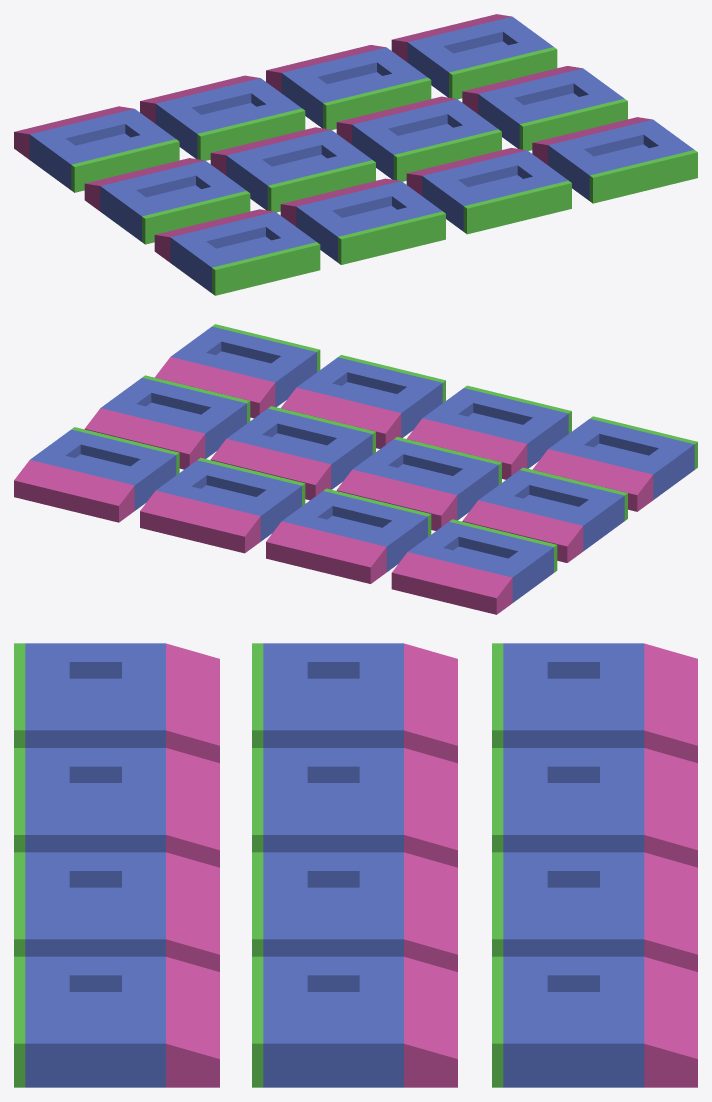
3 views of the same model, one above another, from view 1: azimuth 30°, elevation 25°; view 2: azimuth 150°, elevation 25°; view 3: azimuth 270°, elevation 25° (orthographic). The views are drawn at different scales.
Visible parts, largest first — view 1: Cube.002, Cube, Cube.001; view 2: Cube, Cube.001, Cube.002; view 3: Cube, Cube.002, Cube.001.
Boxes of the visible parts, x1,y1,x2,y2 form: Cube.002: (154,117,697,295); Cube: (14,14,557,192); Cube.001: (84,66,627,244); Cube: (14,427,557,614); Cube.001: (84,375,627,562); Cube.002: (155,324,697,511); Cube: (492,643,697,1087); Cube.002: (14,643,219,1087); Cube.001: (252,643,457,1087).
Bounding box in the file's own units: 4600 × 235 × 3322.
